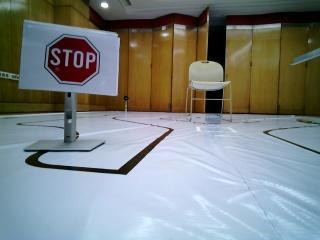stop: (33, 25, 110, 96)
